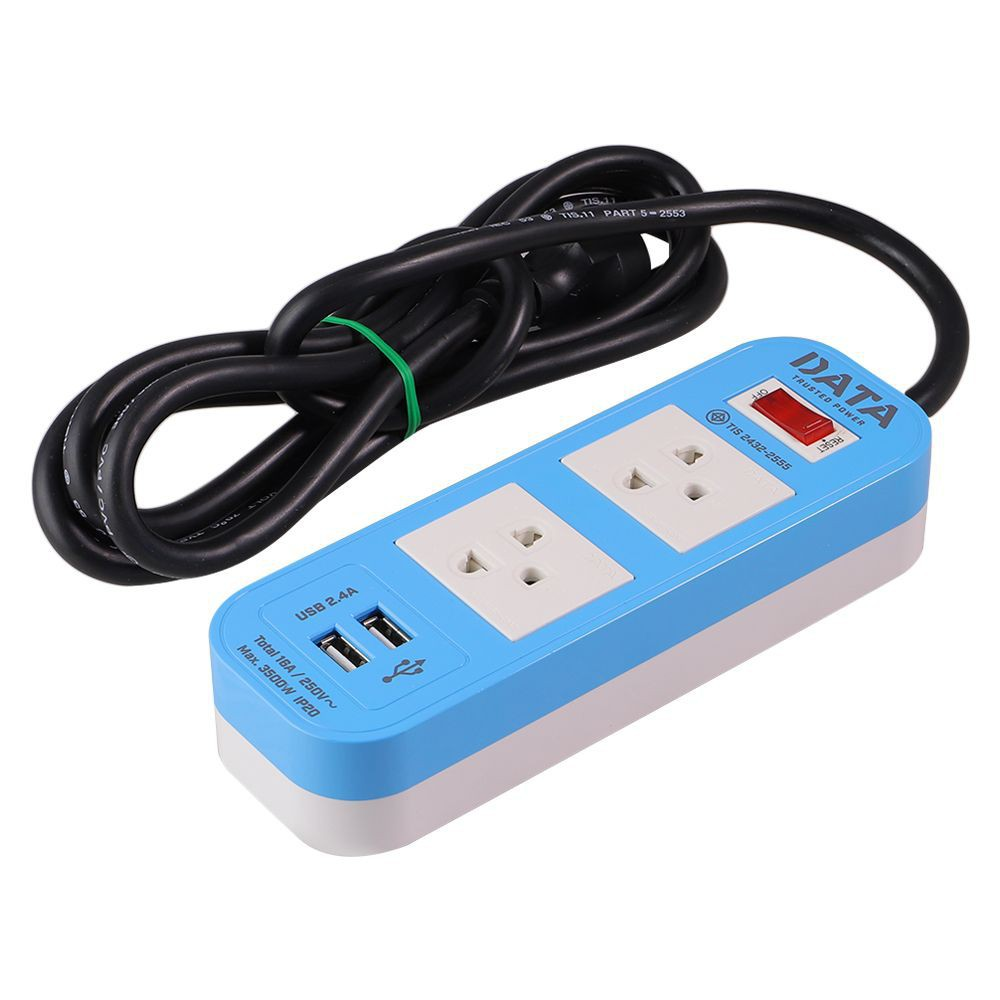Three_eye_plug: (199, 315, 941, 869)
